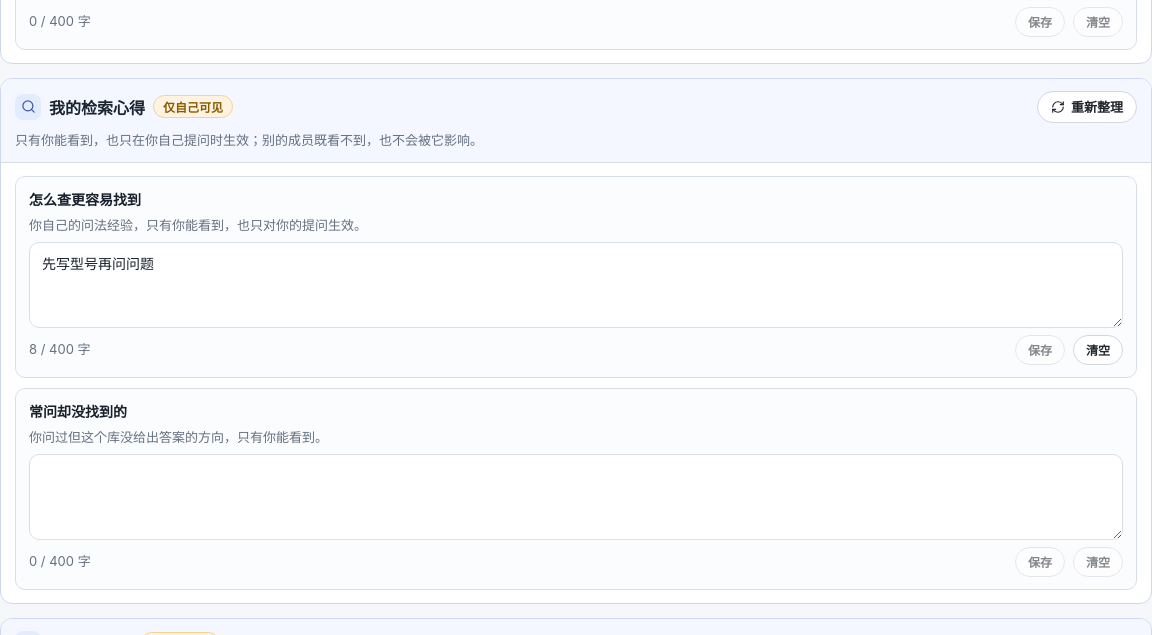
Test: 放弃我的修改：陈旧草稿的另一条出口——丢弃草稿，回到服务端新值
(page scrolled)
Type "补一句" into the text box named "怎么查更容易找到".
click(576, 285); type("补一句")  # box [29, 242, 1123, 328]
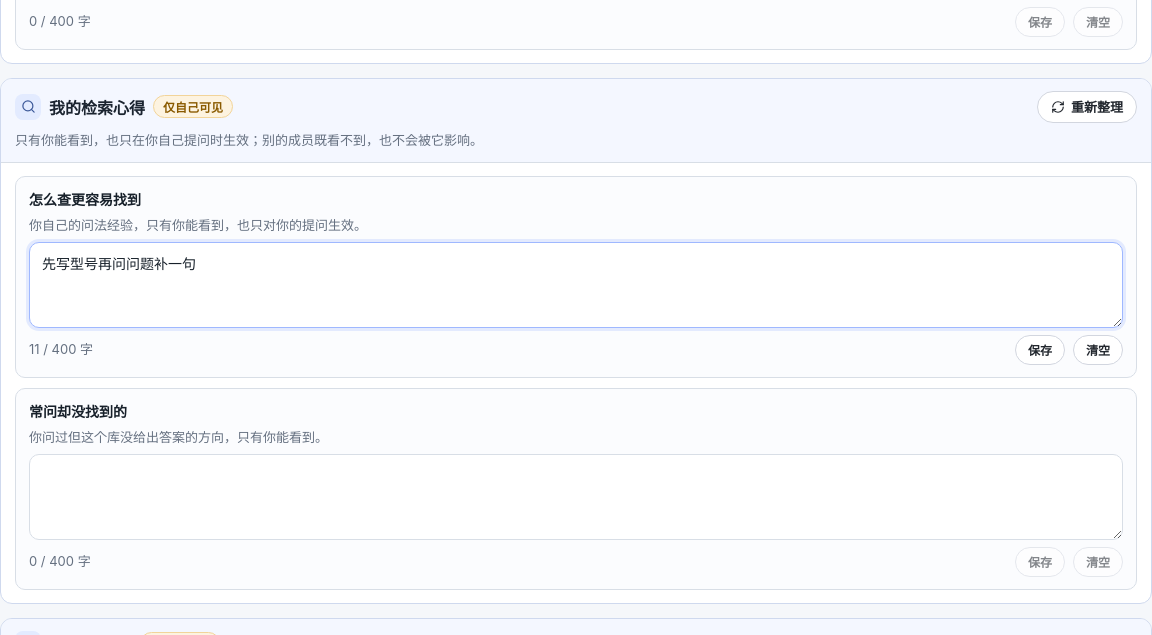
Click the button "保存" in the row of "11".
click(1040, 350)  # box [1015, 335, 1065, 365]
(page scrolled)
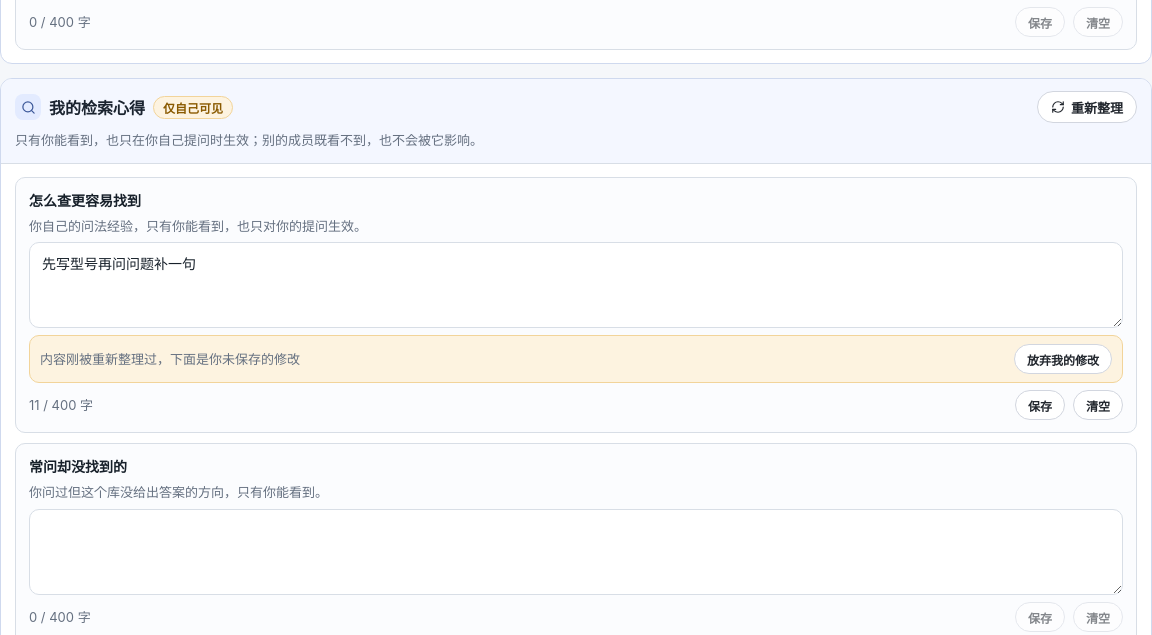
Expected: the message "内容刚被重新整理过，下面是你未保存的修改 放弃我的修改" is shown, [29, 336, 1123, 384]
Click the button "放弃我的修改".
click(1063, 360)  # box [1014, 344, 1112, 374]
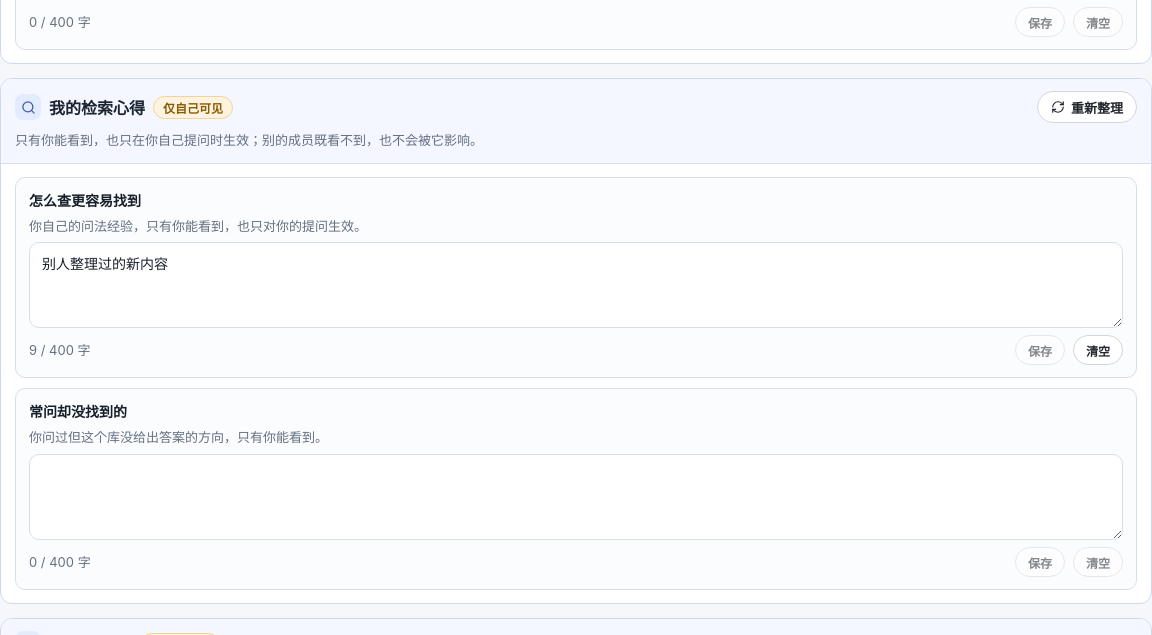
Expected: the message "内容刚被重新整理过，下面是你未保存的修改 放弃我的修改" is gone
Expected: the text box named "怎么查更容易找到" holds "别人整理过的新内容", [29, 242, 1123, 328]
